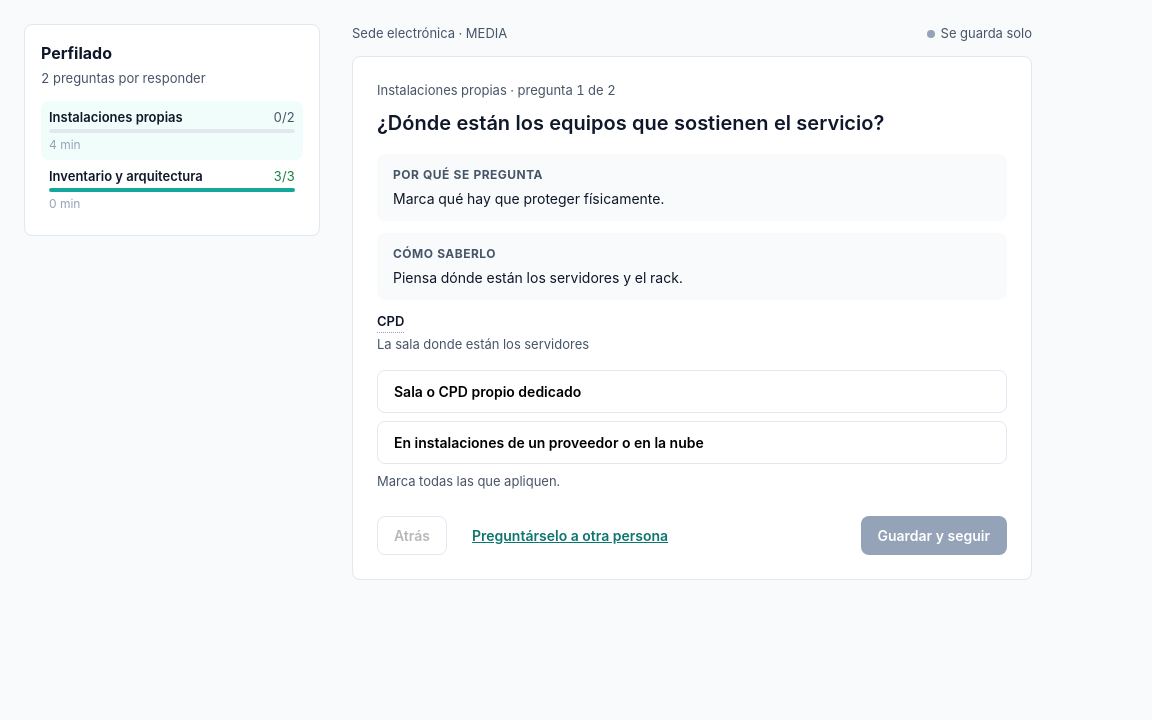
PerfiladoView › responder cuenta lo que cambia en la carpeta
Click the button with class "opcion" showing "Sala o CPD propio dedicado": point(488, 392) [377,370,1007,413]
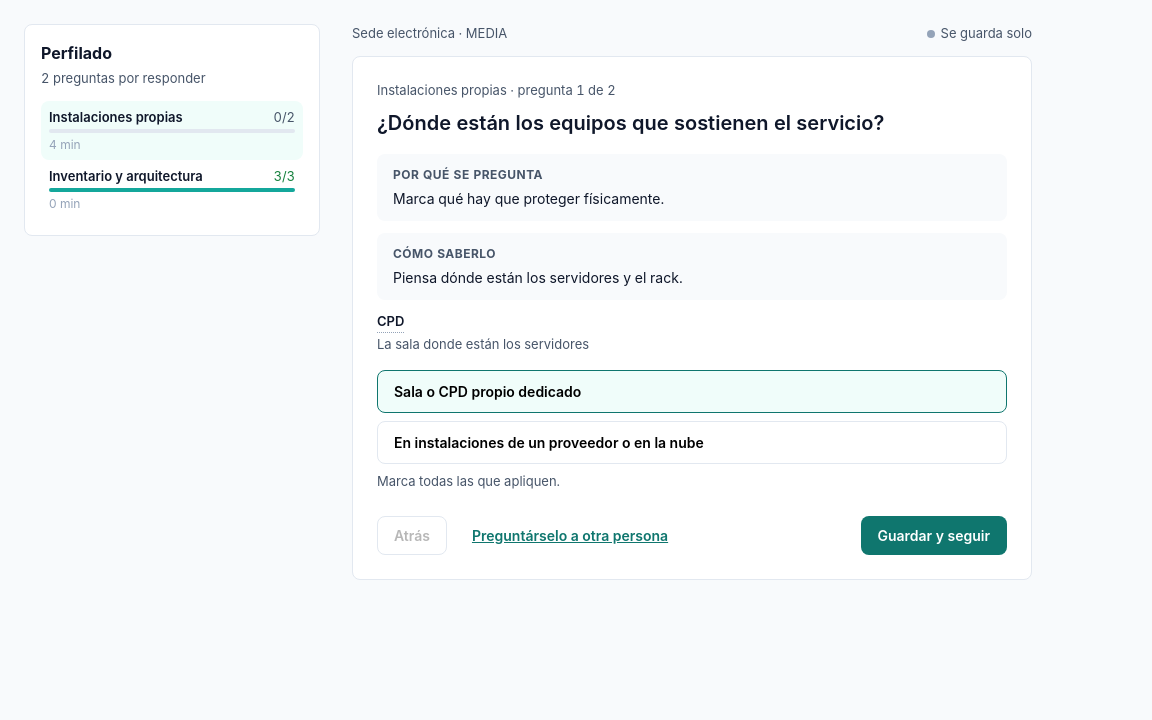
Click the button "Guardar y seguir": point(934, 535) [860,516,1007,554]
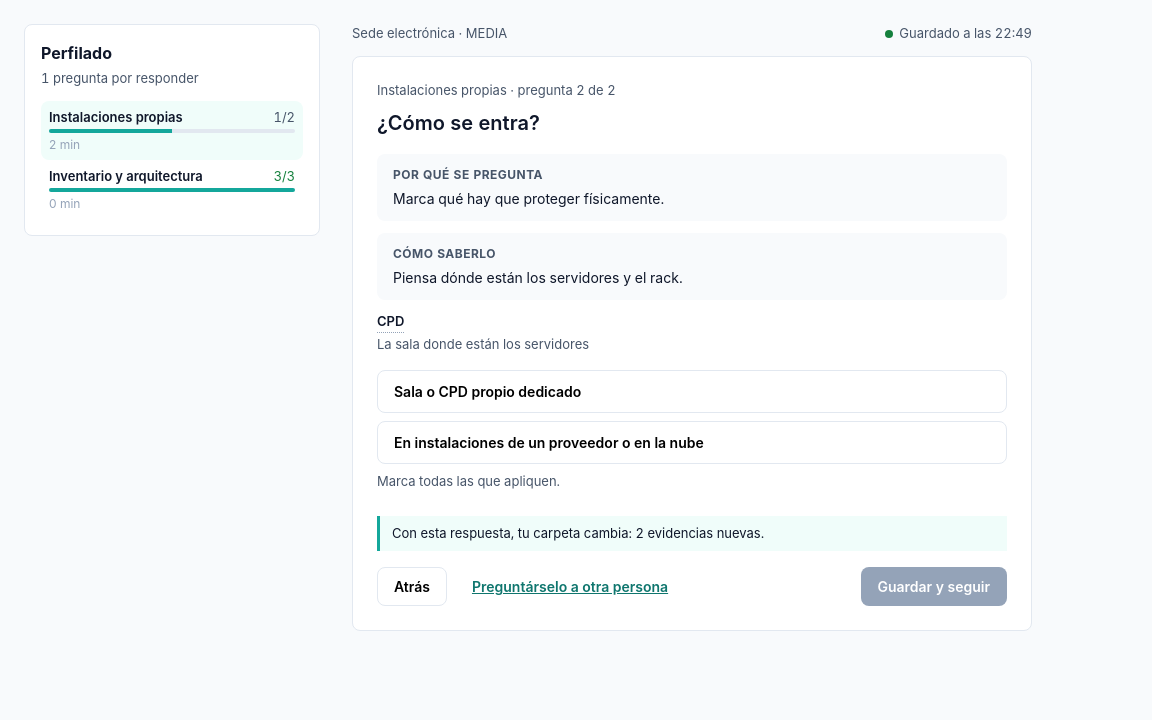
Now the text "2 evidencias nuevas" is shown, box [392,524,764,540]
Now the text "Guardado a las" is shown, box [899,25,1032,41]
